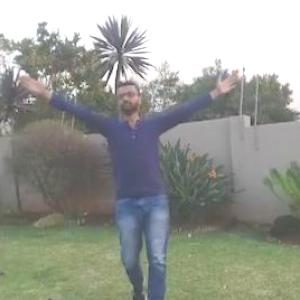takeoff: (1, 48, 258, 299)
